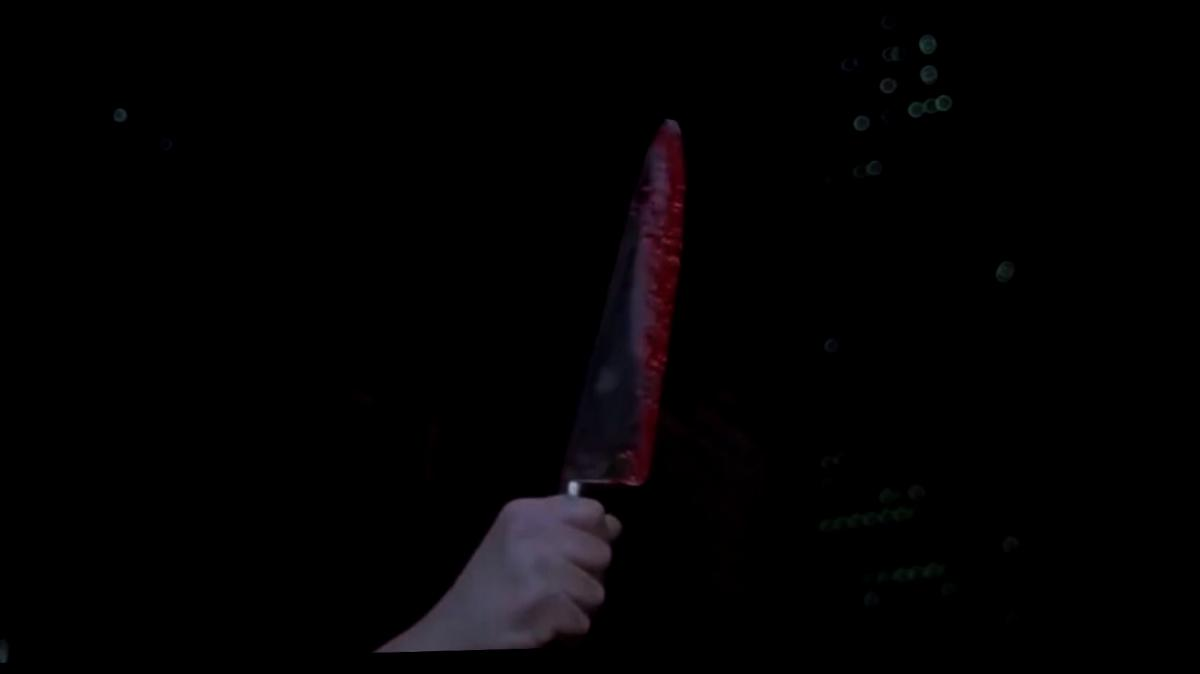Fire: (563, 125, 687, 493)
